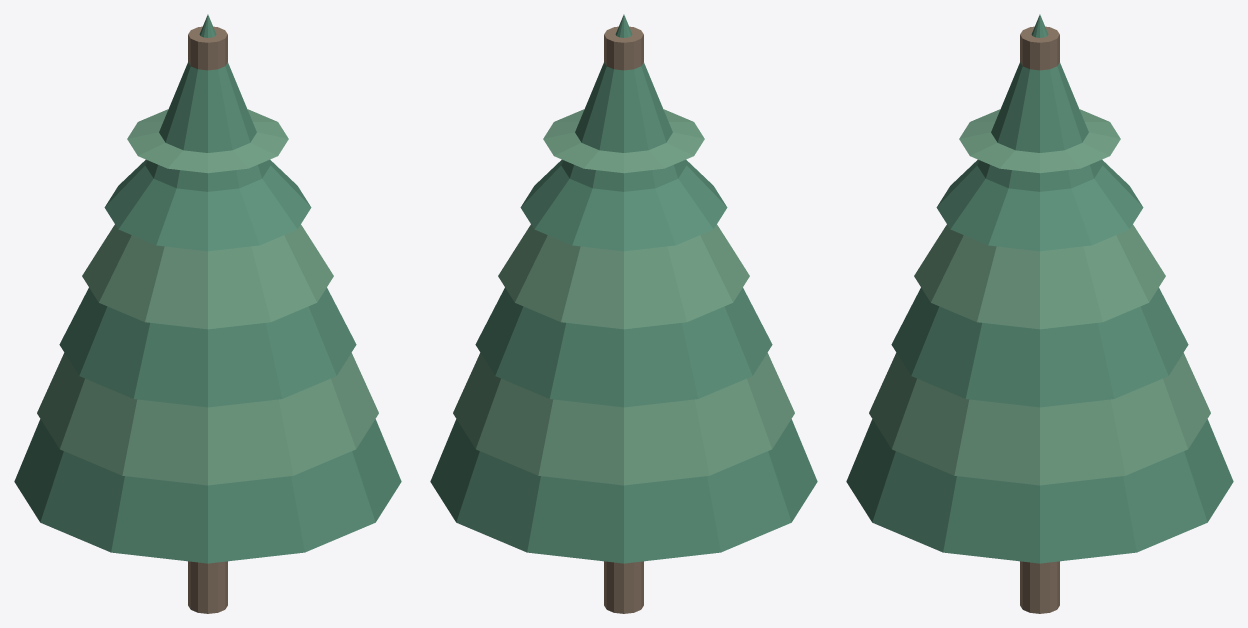
File: pine_tree_lod0.gltf
3 renders of one model, left to right at view 1: azimuth 30°, elevation 25°; view 2: azimuth 150°, elevation 25°; view 3: azimuth 270°, elevation 25°, orthographic.
Parts seen in each view (by area): view 1: NeedleTier_0, NeedleTier_1, NeedleTier_2, NeedleTier_3, NeedleTier_4, NeedleTier_5, Trunk; view 2: NeedleTier_0, NeedleTier_1, NeedleTier_2, NeedleTier_3, NeedleTier_4, NeedleTier_5, Trunk; view 3: NeedleTier_0, NeedleTier_1, NeedleTier_2, NeedleTier_3, NeedleTier_4, NeedleTier_5, Trunk.
Boxes of the visible parts, bbox=[...] form: NeedleTier_0: bbox=[14, 14, 401, 563]; NeedleTier_1: bbox=[37, 353, 378, 485]; NeedleTier_2: bbox=[59, 287, 356, 407]; NeedleTier_3: bbox=[82, 224, 333, 329]; NeedleTier_4: bbox=[104, 159, 311, 251]; NeedleTier_5: bbox=[127, 109, 288, 173]; Trunk: bbox=[188, 26, 227, 613]; NeedleTier_0: bbox=[430, 14, 817, 563]; NeedleTier_1: bbox=[453, 353, 794, 485]; NeedleTier_2: bbox=[475, 287, 772, 407]; NeedleTier_3: bbox=[498, 224, 749, 329]; NeedleTier_4: bbox=[520, 159, 727, 251]; NeedleTier_5: bbox=[543, 109, 704, 173]; Trunk: bbox=[604, 26, 643, 613]; NeedleTier_0: bbox=[846, 14, 1233, 563]; NeedleTier_1: bbox=[869, 353, 1210, 485]; NeedleTier_2: bbox=[891, 287, 1188, 407]; NeedleTier_3: bbox=[914, 224, 1165, 329]; NeedleTier_4: bbox=[936, 159, 1143, 251]; NeedleTier_5: bbox=[959, 109, 1120, 173]; Trunk: bbox=[1020, 26, 1059, 613].
Size of the model in its own units: 2.92 by 4.92 by 2.92.
